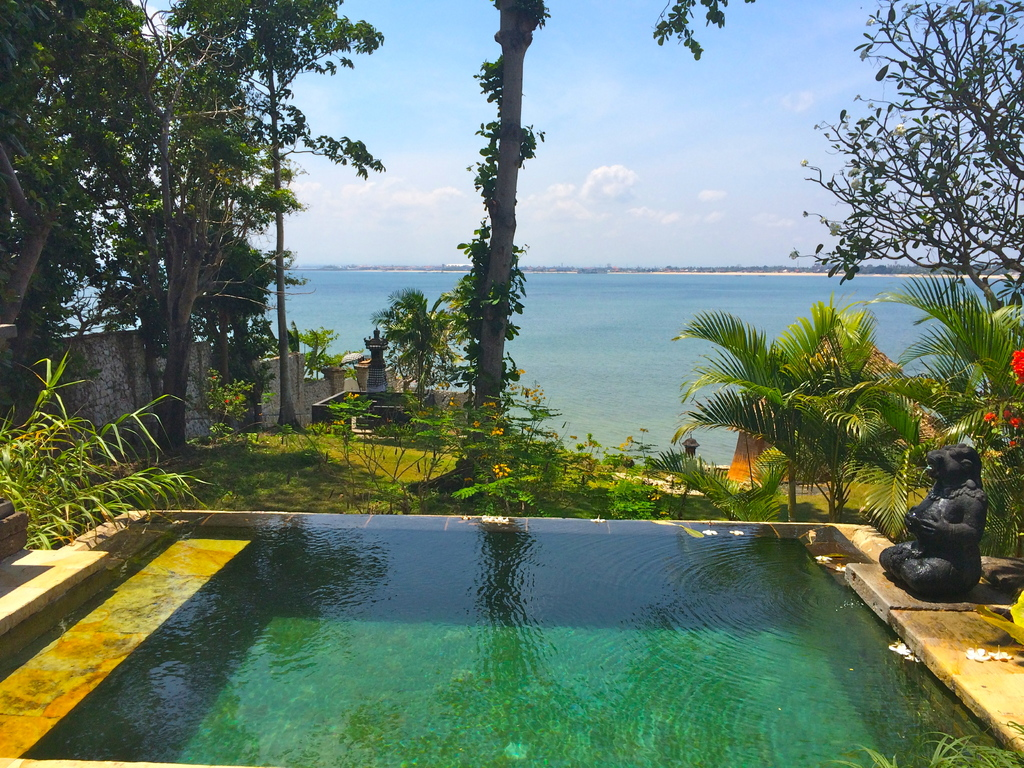Animal: (876, 438, 989, 601)
